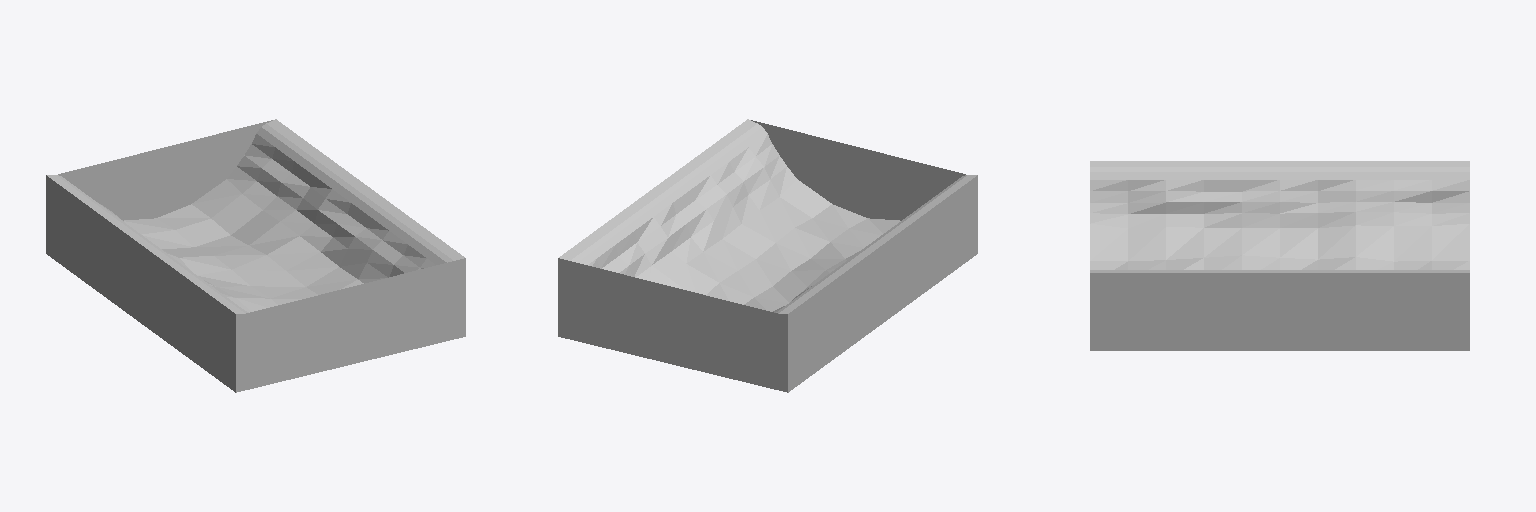
File: river_1_001.obj
3 renders of one model, left to right at view 1: azimuth 30°, elevation 25°; view 2: azimuth 150°, elevation 25°; view 3: azimuth 270°, elevation 25°, orthographic.
Parts seen in each view (by area): view 1: Cube; view 2: Cube; view 3: Cube.
Part boxes in pixels (x1,y1,x2,y2): Cube: (46,119,465,392); Cube: (558,119,977,392); Cube: (1090,161,1469,350).
Bounding box in the file's own units: 7 × 2.29 × 10.